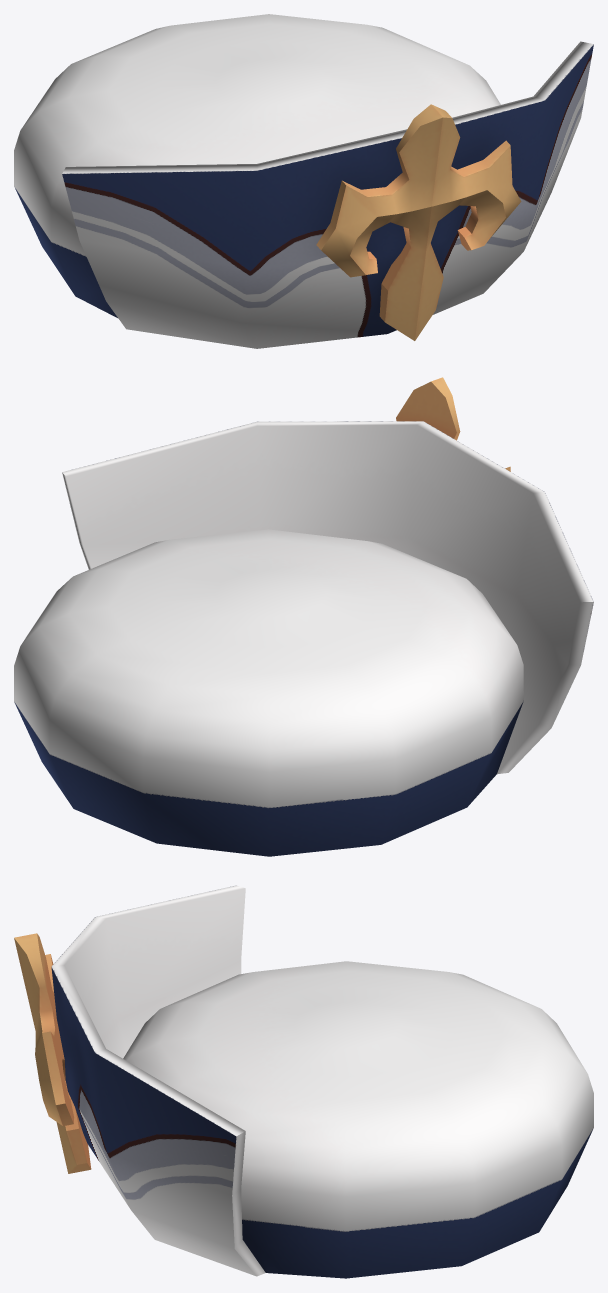
The model's file is importerSkin18_hat.fbx.
The picture shows the model from 3 angles, top to bottom: view 1: azimuth 30°, elevation 25°; view 2: azimuth 150°, elevation 25°; view 3: azimuth 270°, elevation 25°; orthographic projection. The views are drawn at different scales.
Visible parts, largest first — view 1: importerSkin18_hat_geo; view 2: importerSkin18_hat_geo; view 3: importerSkin18_hat_geo.
Part boxes in pixels (x1=…): importerSkin18_hat_geo: x1=14, y1=14, x2=593, y2=348; importerSkin18_hat_geo: x1=14, y1=377, x2=593, y2=856; importerSkin18_hat_geo: x1=14, y1=885, x2=593, y2=1278.
Bounding box in the file's own units: 2.16 × 1.02 × 2.11.
1 material, 1 textured.
